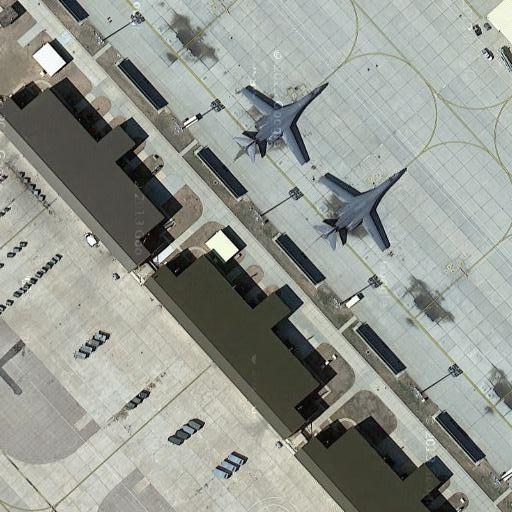B-1B: (307, 165, 409, 256), (236, 78, 331, 167)
